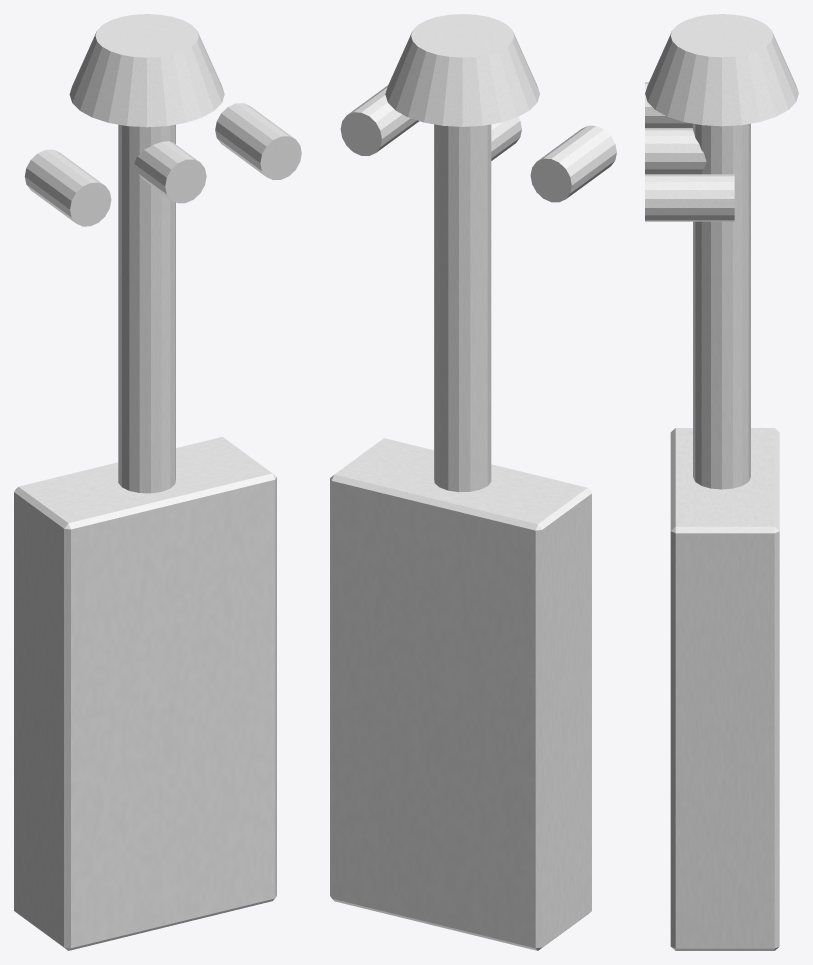
Rendered from serviceweatherhead.obj.
3 renders of one model, left to right at view 1: azimuth 30°, elevation 25°; view 2: azimuth 150°, elevation 25°; view 3: azimuth 270°, elevation 25°, orthographic.
Parts seen in each view (by area): view 1: Case, Pipe, Hood, Terminal0, Terminal2, Terminal1; view 2: Case, Pipe, Hood, Terminal0, Terminal2, Terminal1; view 3: Case, Pipe, Hood, Terminal2, Terminal1, Terminal0.
Part boxes in pixels (<box>): Case: <box>14,437,276,950</box>; Pipe: <box>118,124,175,493</box>; Hood: <box>69,14,224,127</box>; Terminal0: <box>24,149,111,226</box>; Terminal2: <box>215,103,301,180</box>; Terminal1: <box>134,141,206,203</box>; Case: <box>330,438,591,950</box>; Pipe: <box>434,124,491,492</box>; Hood: <box>385,14,539,126</box>; Terminal0: <box>530,125,616,202</box>; Terminal2: <box>340,85,419,155</box>; Terminal1: <box>491,117,521,160</box>; Case: <box>670,428,779,950</box>; Pipe: <box>693,123,750,489</box>; Hood: <box>645,14,798,126</box>; Terminal2: <box>645,174,734,221</box>; Terminal1: <box>645,128,706,174</box>; Terminal0: <box>645,82,692,128</box>.
Bounding box in the file's own units: 0.414 × 1.49 × 0.24.
